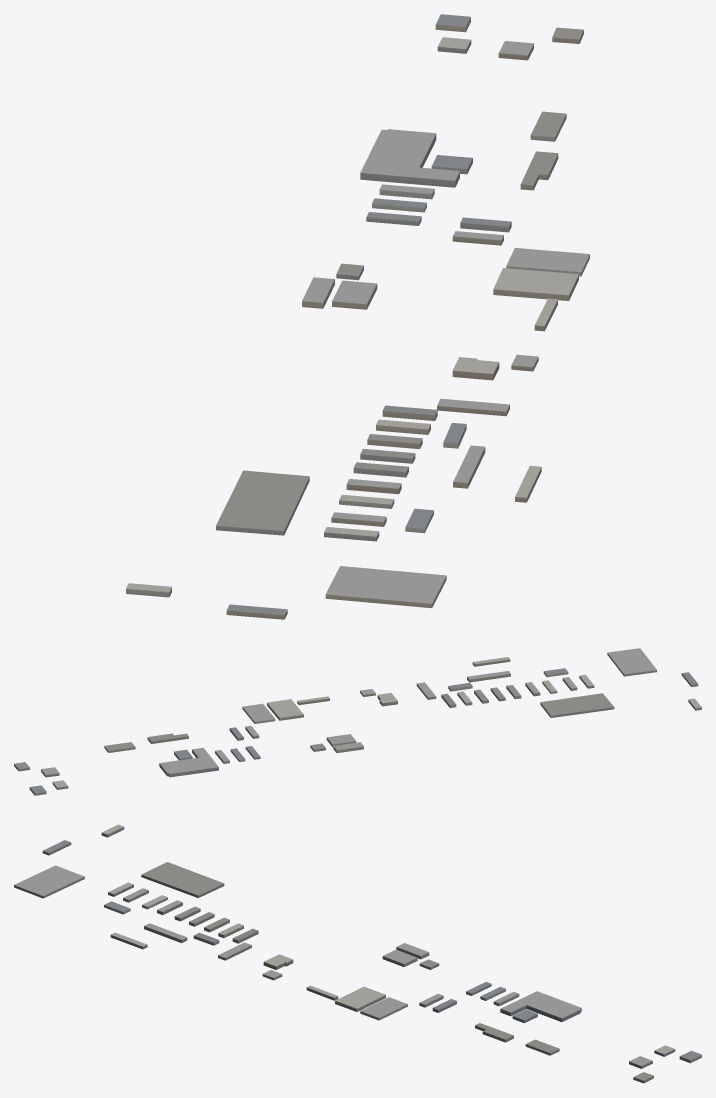
File: bld_4_1.fbx
3 renders of one model, top to bottom at view 1: azimuth 30°, elevation 25°; view 2: azimuth 150°, elevation 25°; view 3: azimuth 270°, elevation 25°, orthographic. The views are drawn at different scales.
Parts seen in each view (by area): view 1: bld_4_1_LOD0; view 2: bld_4_1_LOD0; view 3: bld_4_1_LOD0.
Boxes of the visible parts, <box> form: bld_4_1_LOD0: <box>126,14,589,619</box>; bld_4_1_LOD0: <box>14,648,701,795</box>; bld_4_1_LOD0: <box>14,824,701,1083</box>.
Size of the model in its own units: 1855 by 13.15 by 2107.
